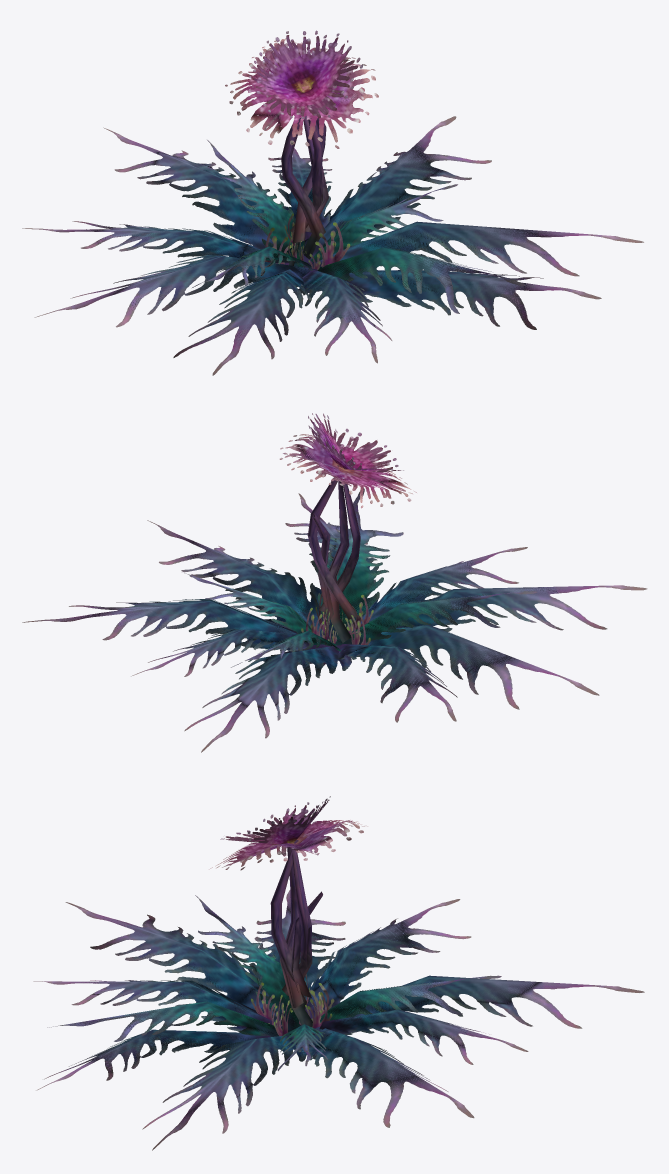
Rendered from S_Plant_Blue011_A1.FBX.
3 views of the same model, one above another, from view 1: azimuth 30°, elevation 25°; view 2: azimuth 150°, elevation 25°; view 3: azimuth 270°, elevation 25° (orthographic). The views are drawn at different scales.
Parts seen in each view (by area): view 1: S_Plant_Blue011_A1; view 2: S_Plant_Blue011_A1; view 3: S_Plant_Blue011_A1.
Boxes of the visible parts, x1,y1,x2,y2 form: S_Plant_Blue011_A1: [22, 30, 643, 375]; S_Plant_Blue011_A1: [22, 413, 647, 752]; S_Plant_Blue011_A1: [33, 796, 644, 1150].
Size of the model in its own units: 518 by 235 by 507.
